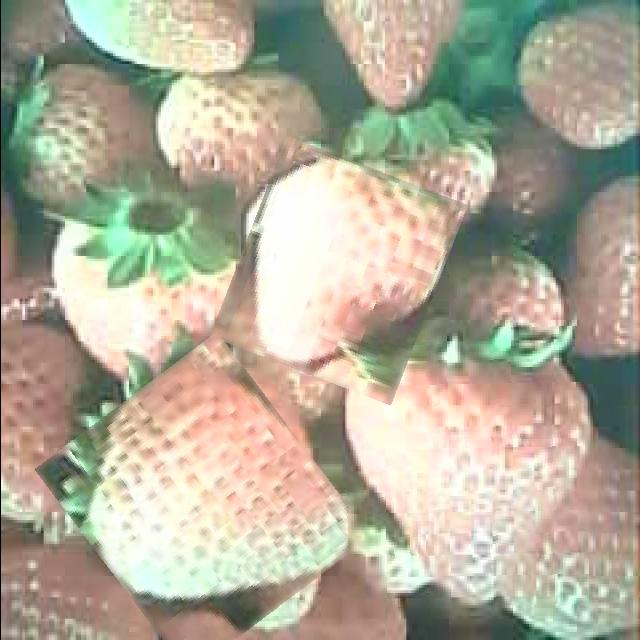strawberry: (61, 352, 344, 640), (345, 327, 587, 607), (225, 150, 451, 392)
